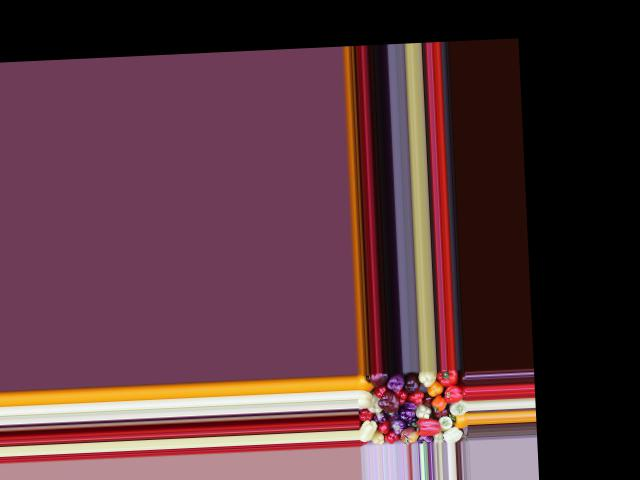bell_pepper: (447, 400, 467, 414)
